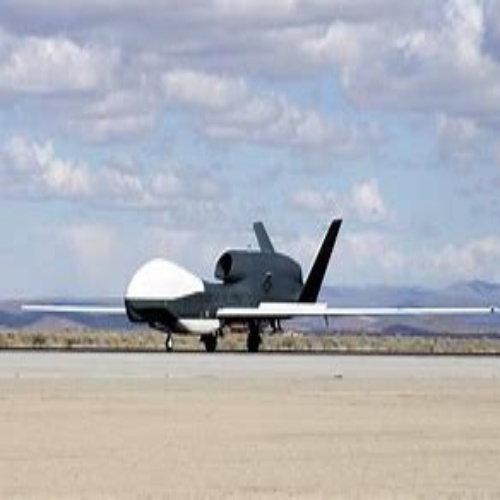uav149: (22, 215, 500, 355)
